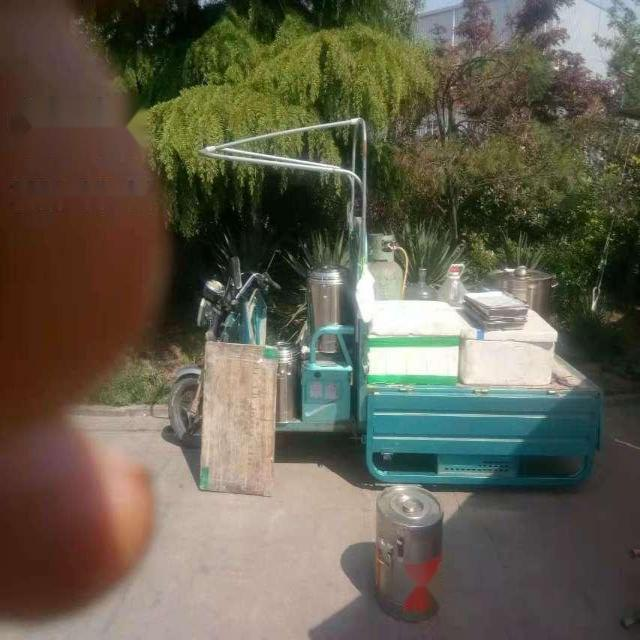car: (163, 215, 603, 494)
fixed_stall: (359, 230, 562, 387), (370, 482, 443, 622)
